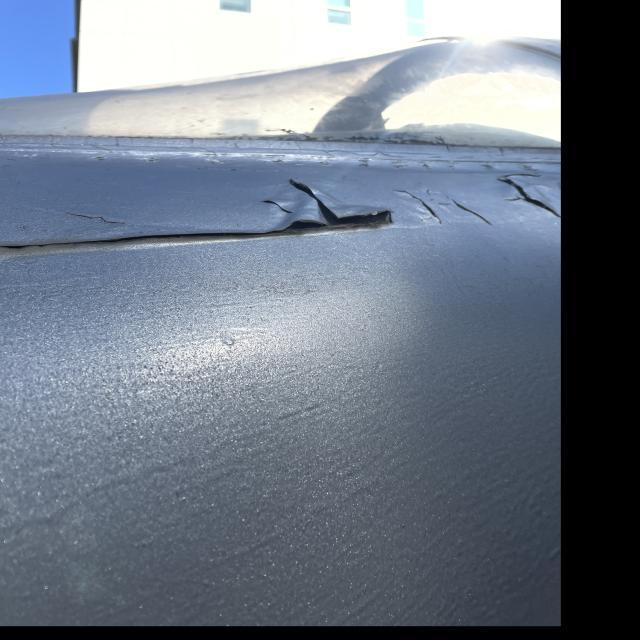crack: (391, 191, 499, 232), (52, 206, 142, 229), (263, 193, 296, 218)
